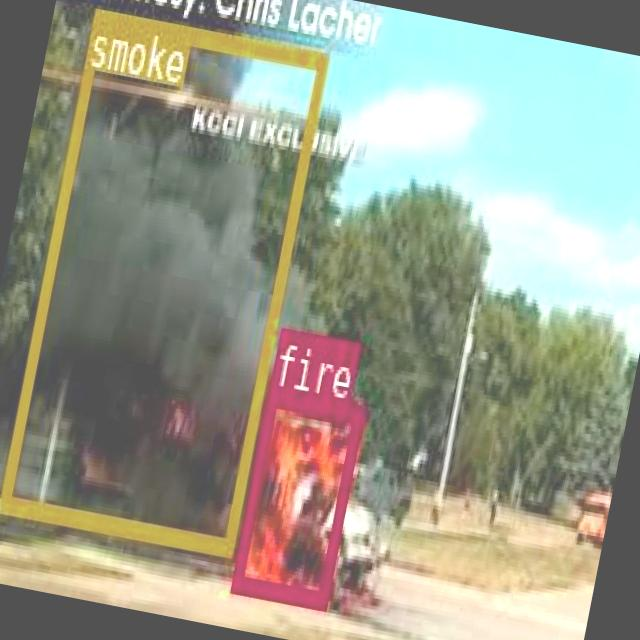fire: (229, 386, 363, 607)
smoke: (0, 7, 328, 554)
